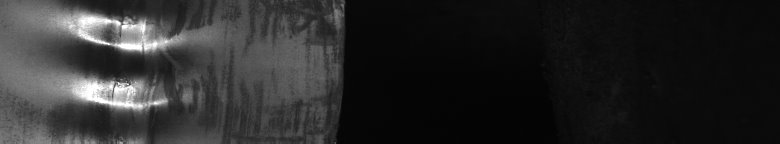ke: (70, 4, 212, 120)
